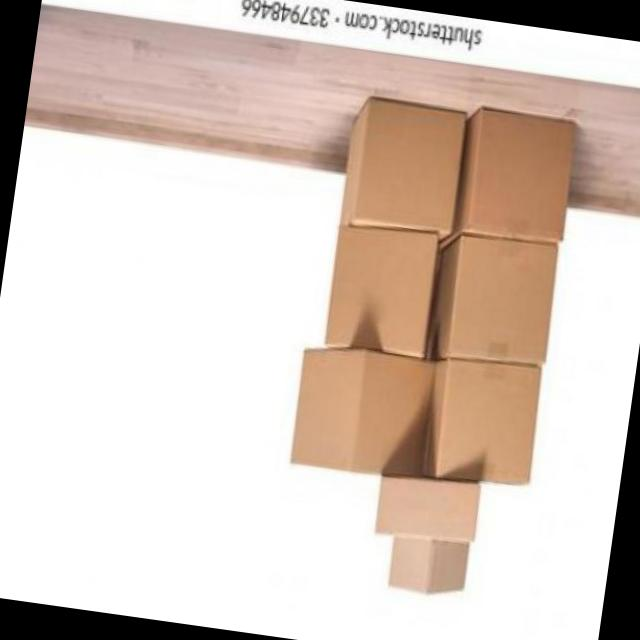box: (322, 82, 479, 250), (274, 334, 442, 490), (446, 95, 590, 258), (414, 350, 552, 500), (426, 233, 570, 376), (316, 215, 450, 368), (364, 468, 493, 558), (382, 521, 474, 614)
